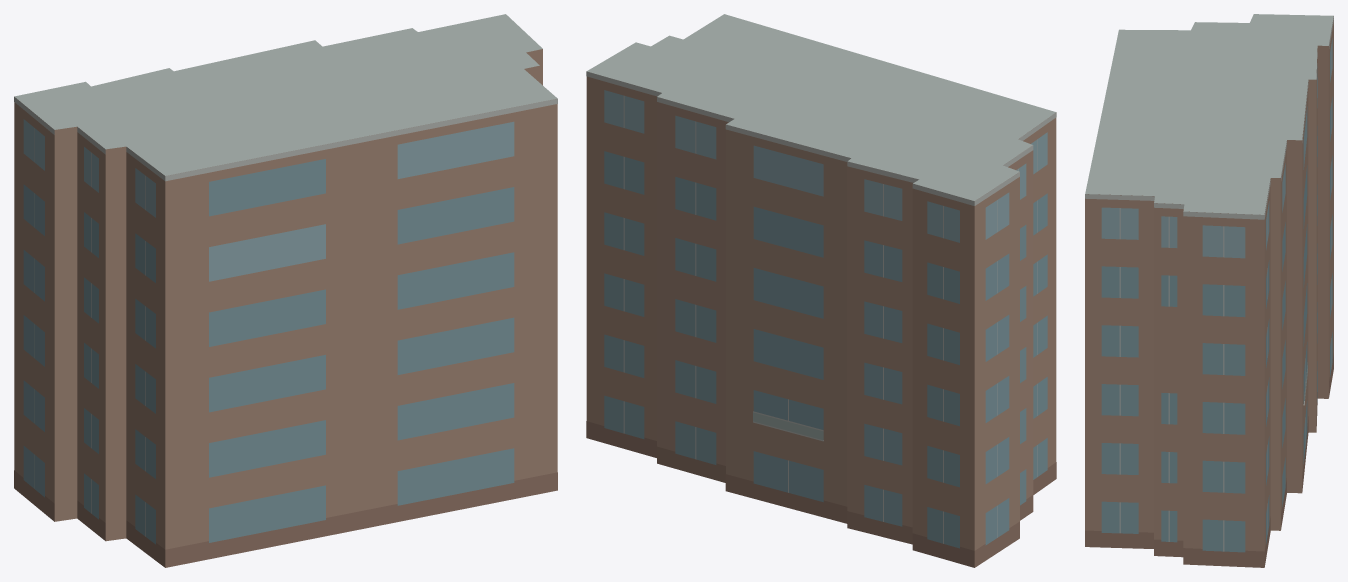
The model's file is survey-upis-33011270.glb.
3 renders of one model, left to right at view 1: azimuth 30°, elevation 25°; view 2: azimuth 150°, elevation 25°; view 3: azimuth 270°, elevation 25°, orthographic. The views are drawn at different scales.
Parts seen in each view (by area): view 1: survey-upis-33011270.tmp; view 2: survey-upis-33011270.tmp; view 3: survey-upis-33011270.tmp.
Part boxes in pixels (<box>): survey-upis-33011270.tmp: <box>14,14,557,567</box>; survey-upis-33011270.tmp: <box>586,14,1056,567</box>; survey-upis-33011270.tmp: <box>1085,14,1333,567</box>.
Size of the model in its own units: 21.93 by 17.95 by 11.48.
